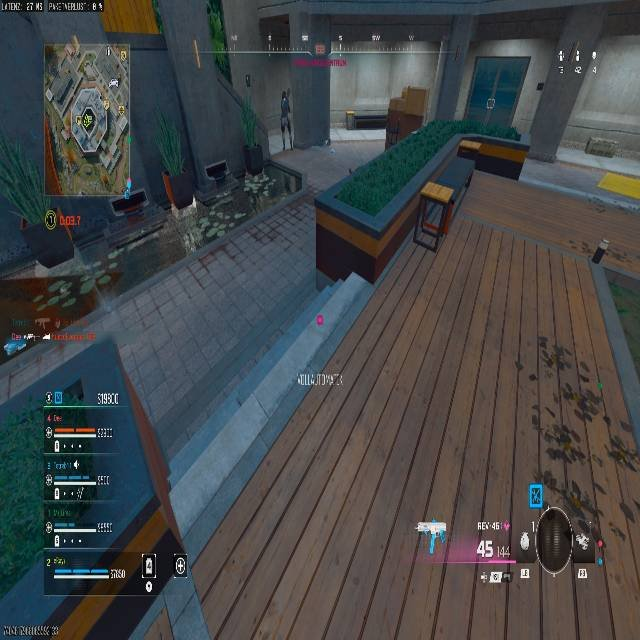head: (281, 89, 288, 97)
player: (274, 92, 294, 143), (279, 89, 291, 134)
